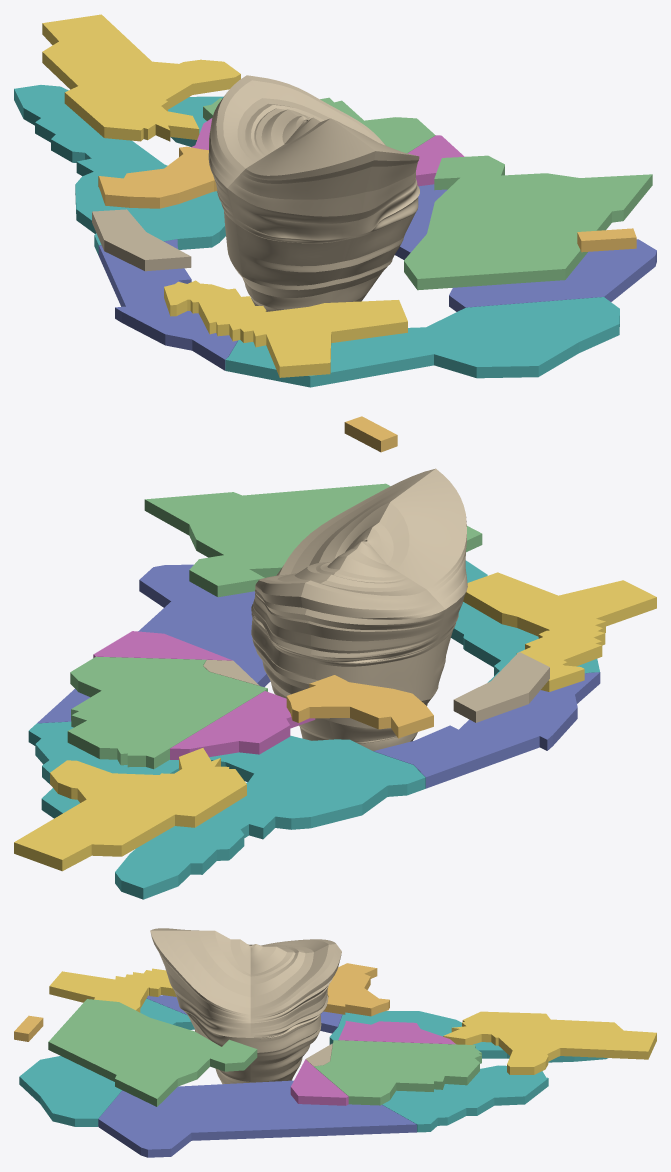
File: tenientev2.glb
The picture shows the model from 3 angles, top to bottom: view 1: azimuth 30°, elevation 25°; view 2: azimuth 150°, elevation 25°; view 3: azimuth 270°, elevation 25°; orthographic projection. The views are drawn at different scales.
Parts seen in each view (by area): view 1: PIPA_BRADEN v11; view 2: PIPA_BRADEN v11; view 3: PIPA_BRADEN v11.
Part boxes in pixels (left/top/right/bottom): PIPA_BRADEN v11: left=14, top=14, right=656, bottom=387; PIPA_BRADEN v11: left=14, top=416, right=656, bottom=899; PIPA_BRADEN v11: left=14, top=928, right=656, bottom=1157.
Size of the model in its own units: 1.31 by 0.7059 by 2.16.
